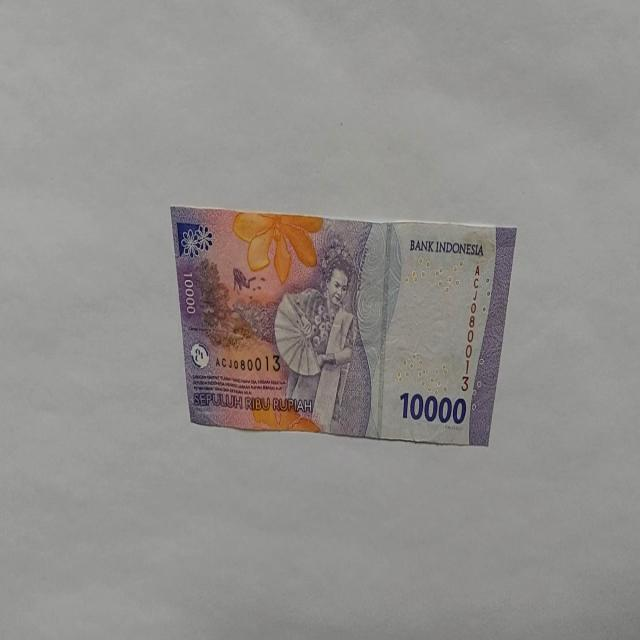sepuluh ribu rupiah: (169, 205, 517, 448)
